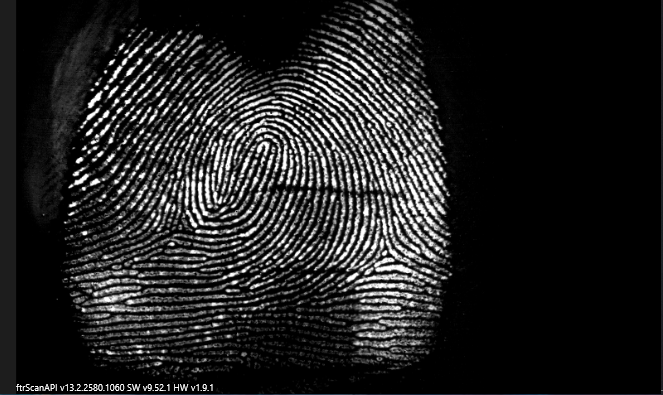deltas: (353, 219, 407, 274), (153, 200, 198, 249)
nucleo: (233, 122, 286, 181)
